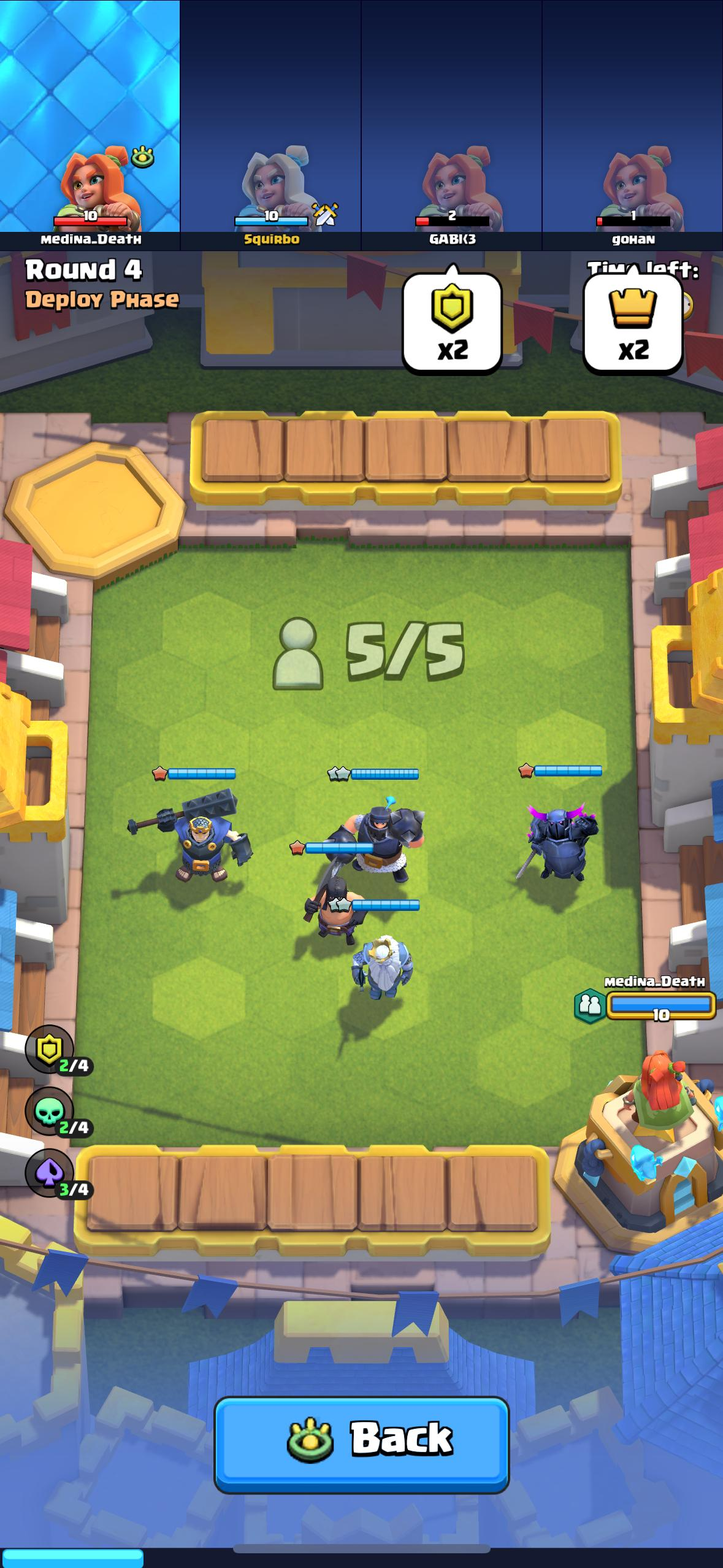executioner: (305, 868, 368, 945)
ghost: (349, 924, 415, 1002)
king: (157, 785, 256, 890)
mega: (332, 799, 429, 887)
pekka: (523, 797, 597, 891)
